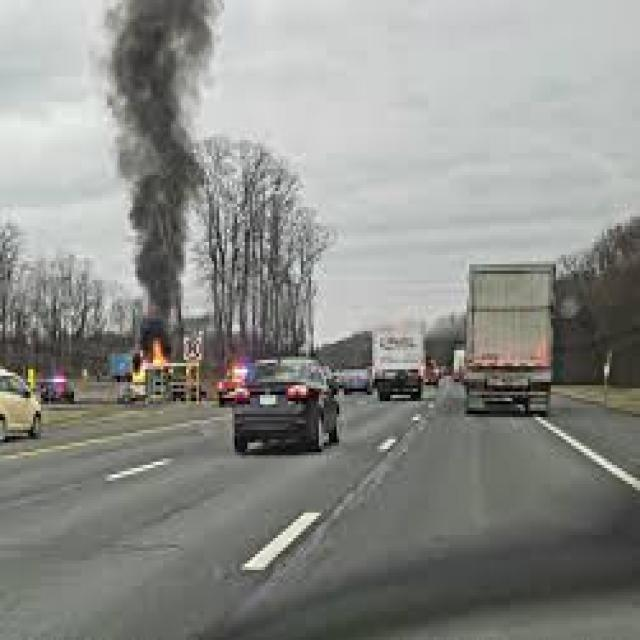fire: (130, 334, 168, 382)
smoke: (102, 3, 214, 338)
